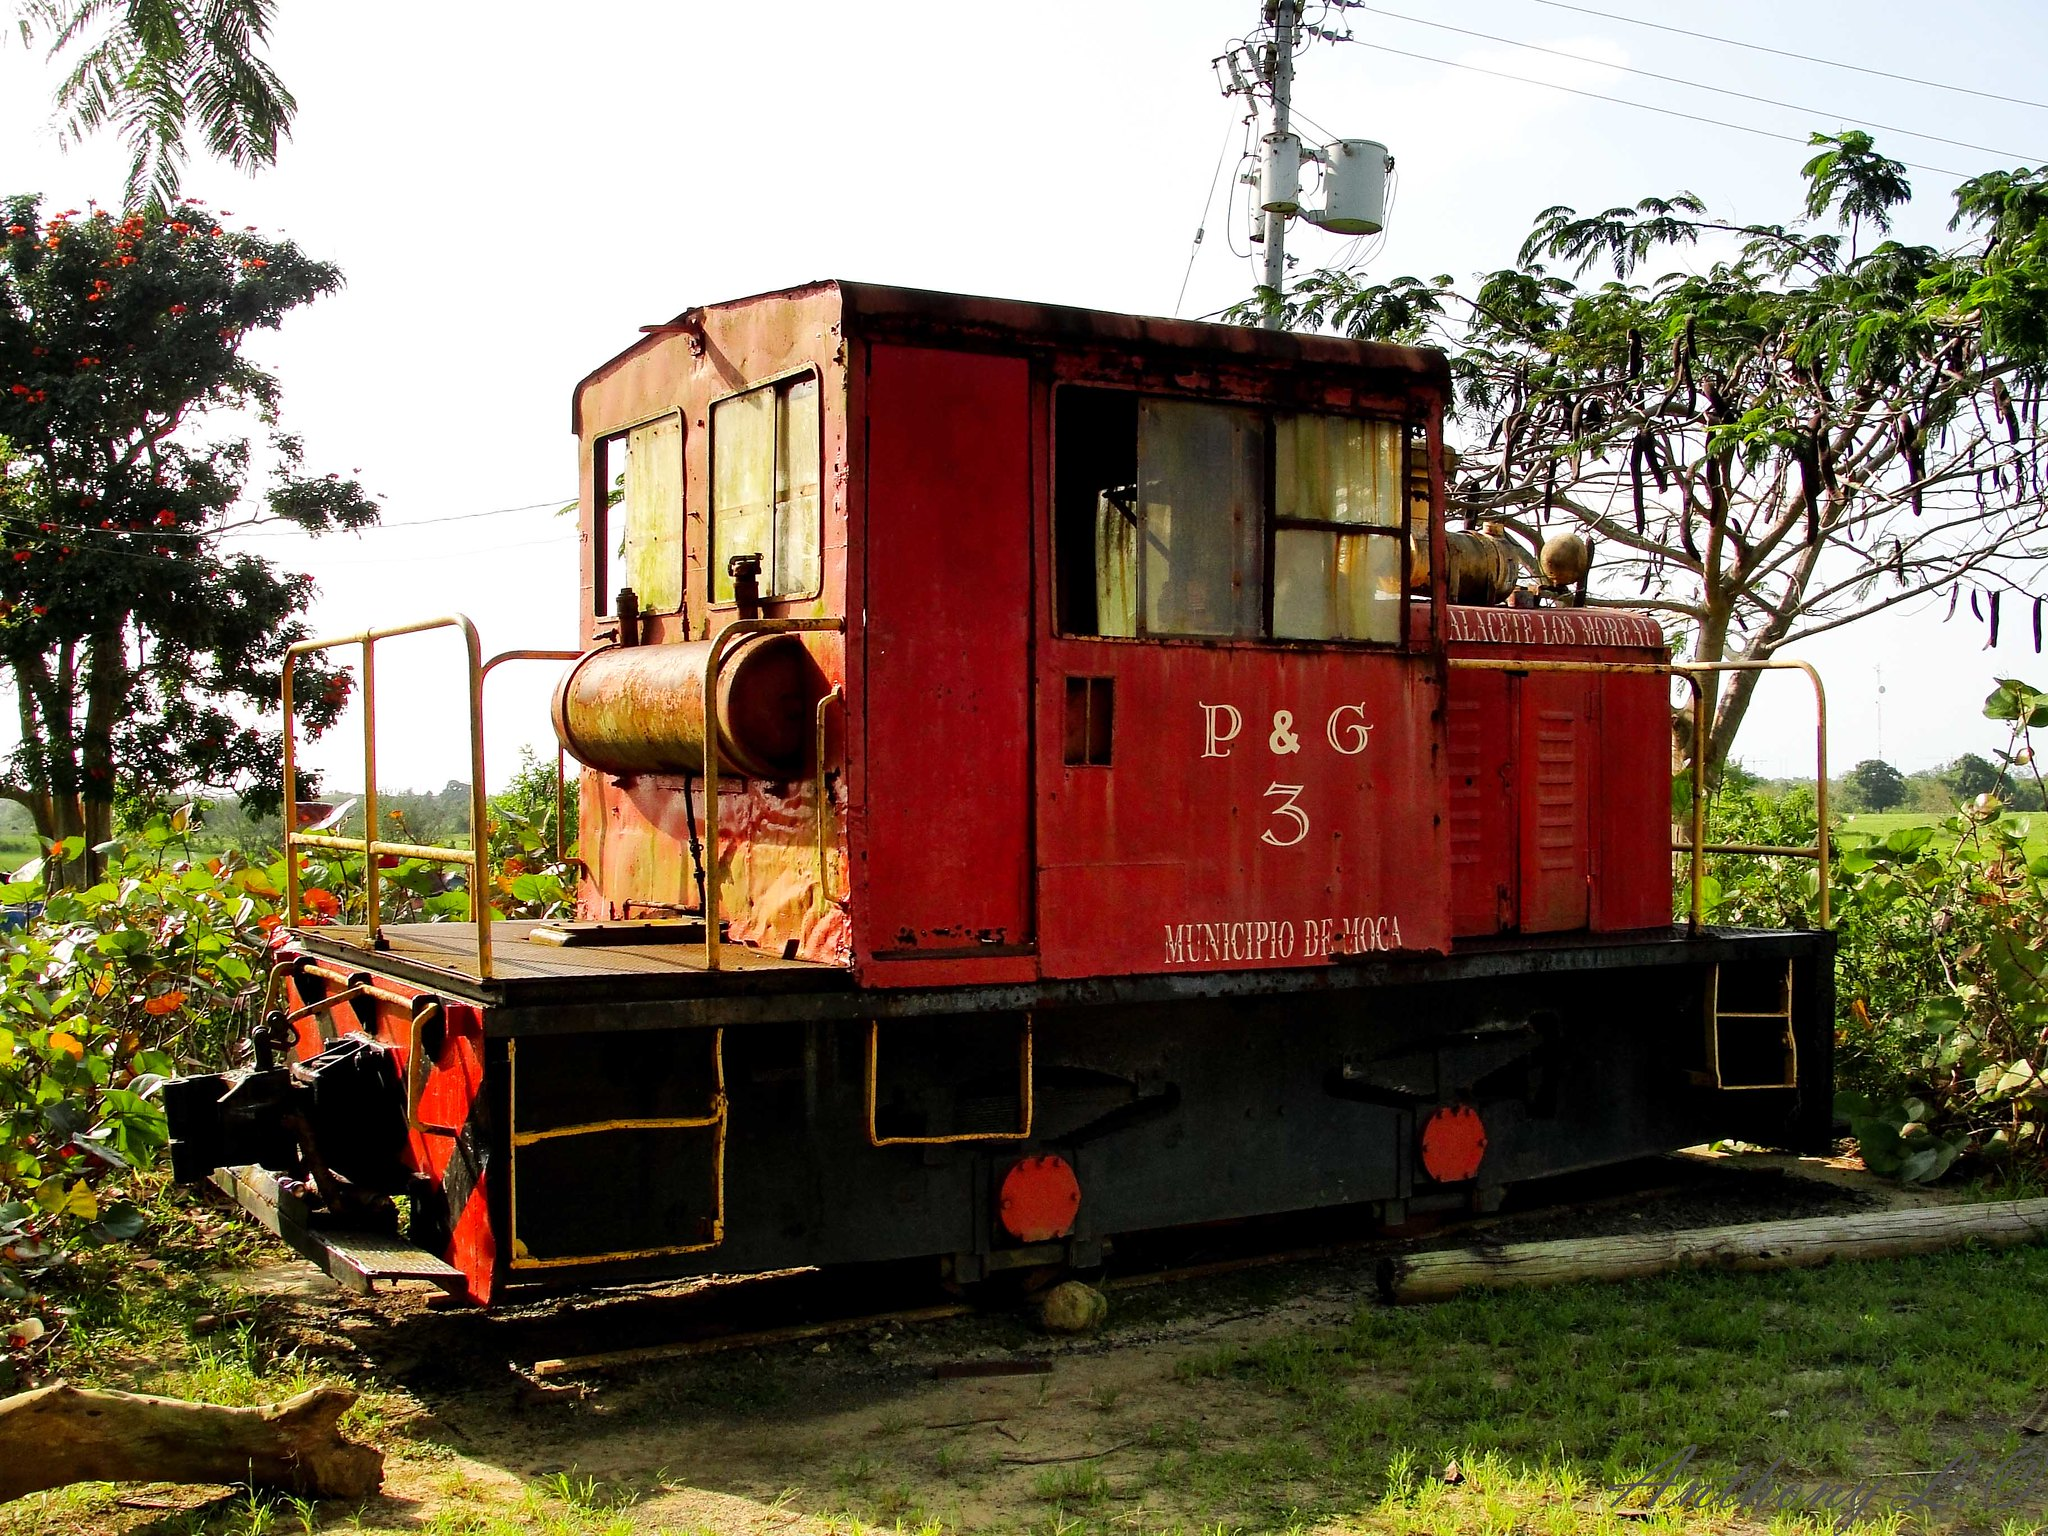train: (214, 281, 1929, 1326)
